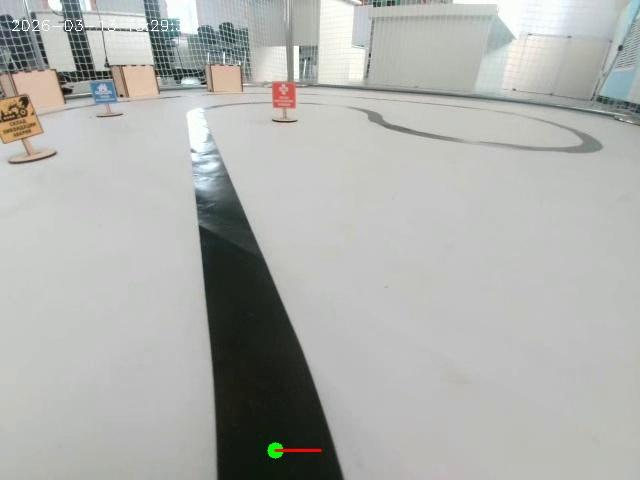flood: (78, 69, 124, 127)
industrial: (0, 82, 40, 208)
medical: (265, 74, 300, 136)
